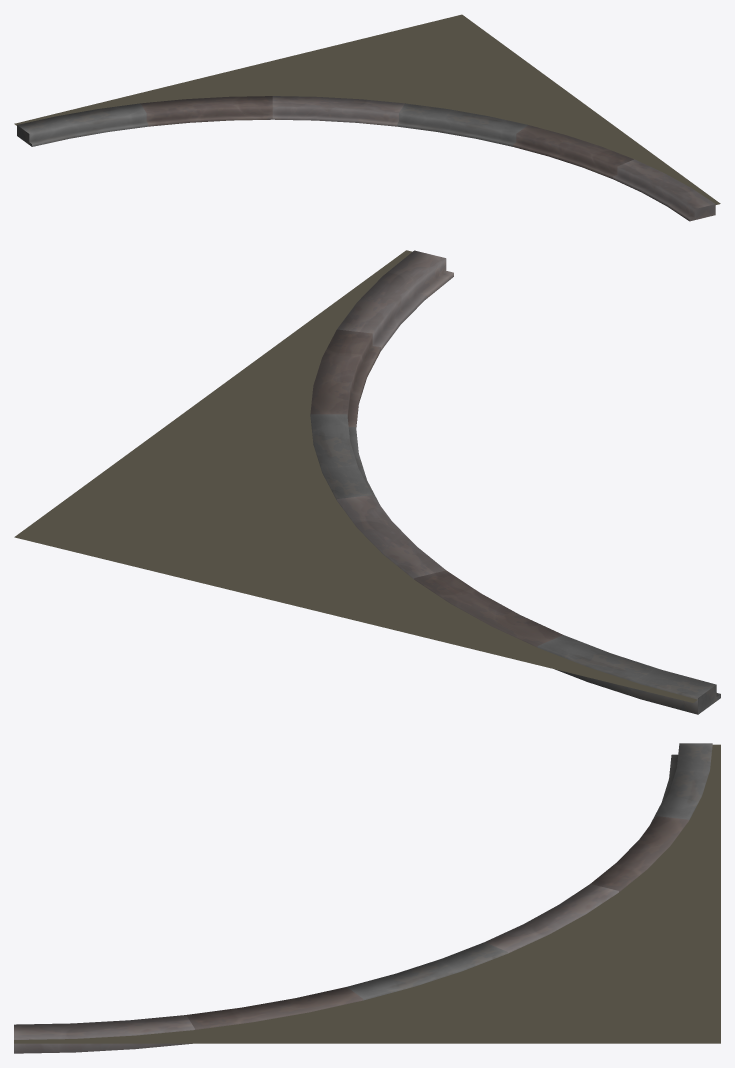
Rendered from Curb_Concave_Radius_8m.fbx.
3 renders of one model, top to bottom at view 1: azimuth 30°, elevation 25°; view 2: azimuth 150°, elevation 25°; view 3: azimuth 270°, elevation 25°, orthographic. The views are drawn at different scales.
Visible parts, largest first — view 1: Curb_Concave_Radius_8m; view 2: Curb_Concave_Radius_8m; view 3: Curb_Concave_Radius_8m.
Part boxes in pixels (box(x1,y1,x2,y2)): Curb_Concave_Radius_8m: box(14, 14, 720, 221); Curb_Concave_Radius_8m: box(14, 250, 720, 714); Curb_Concave_Radius_8m: box(14, 743, 720, 1053).
Size of what is drawn, in the model's own units: 8.5 by 0.2 by 8.5.
